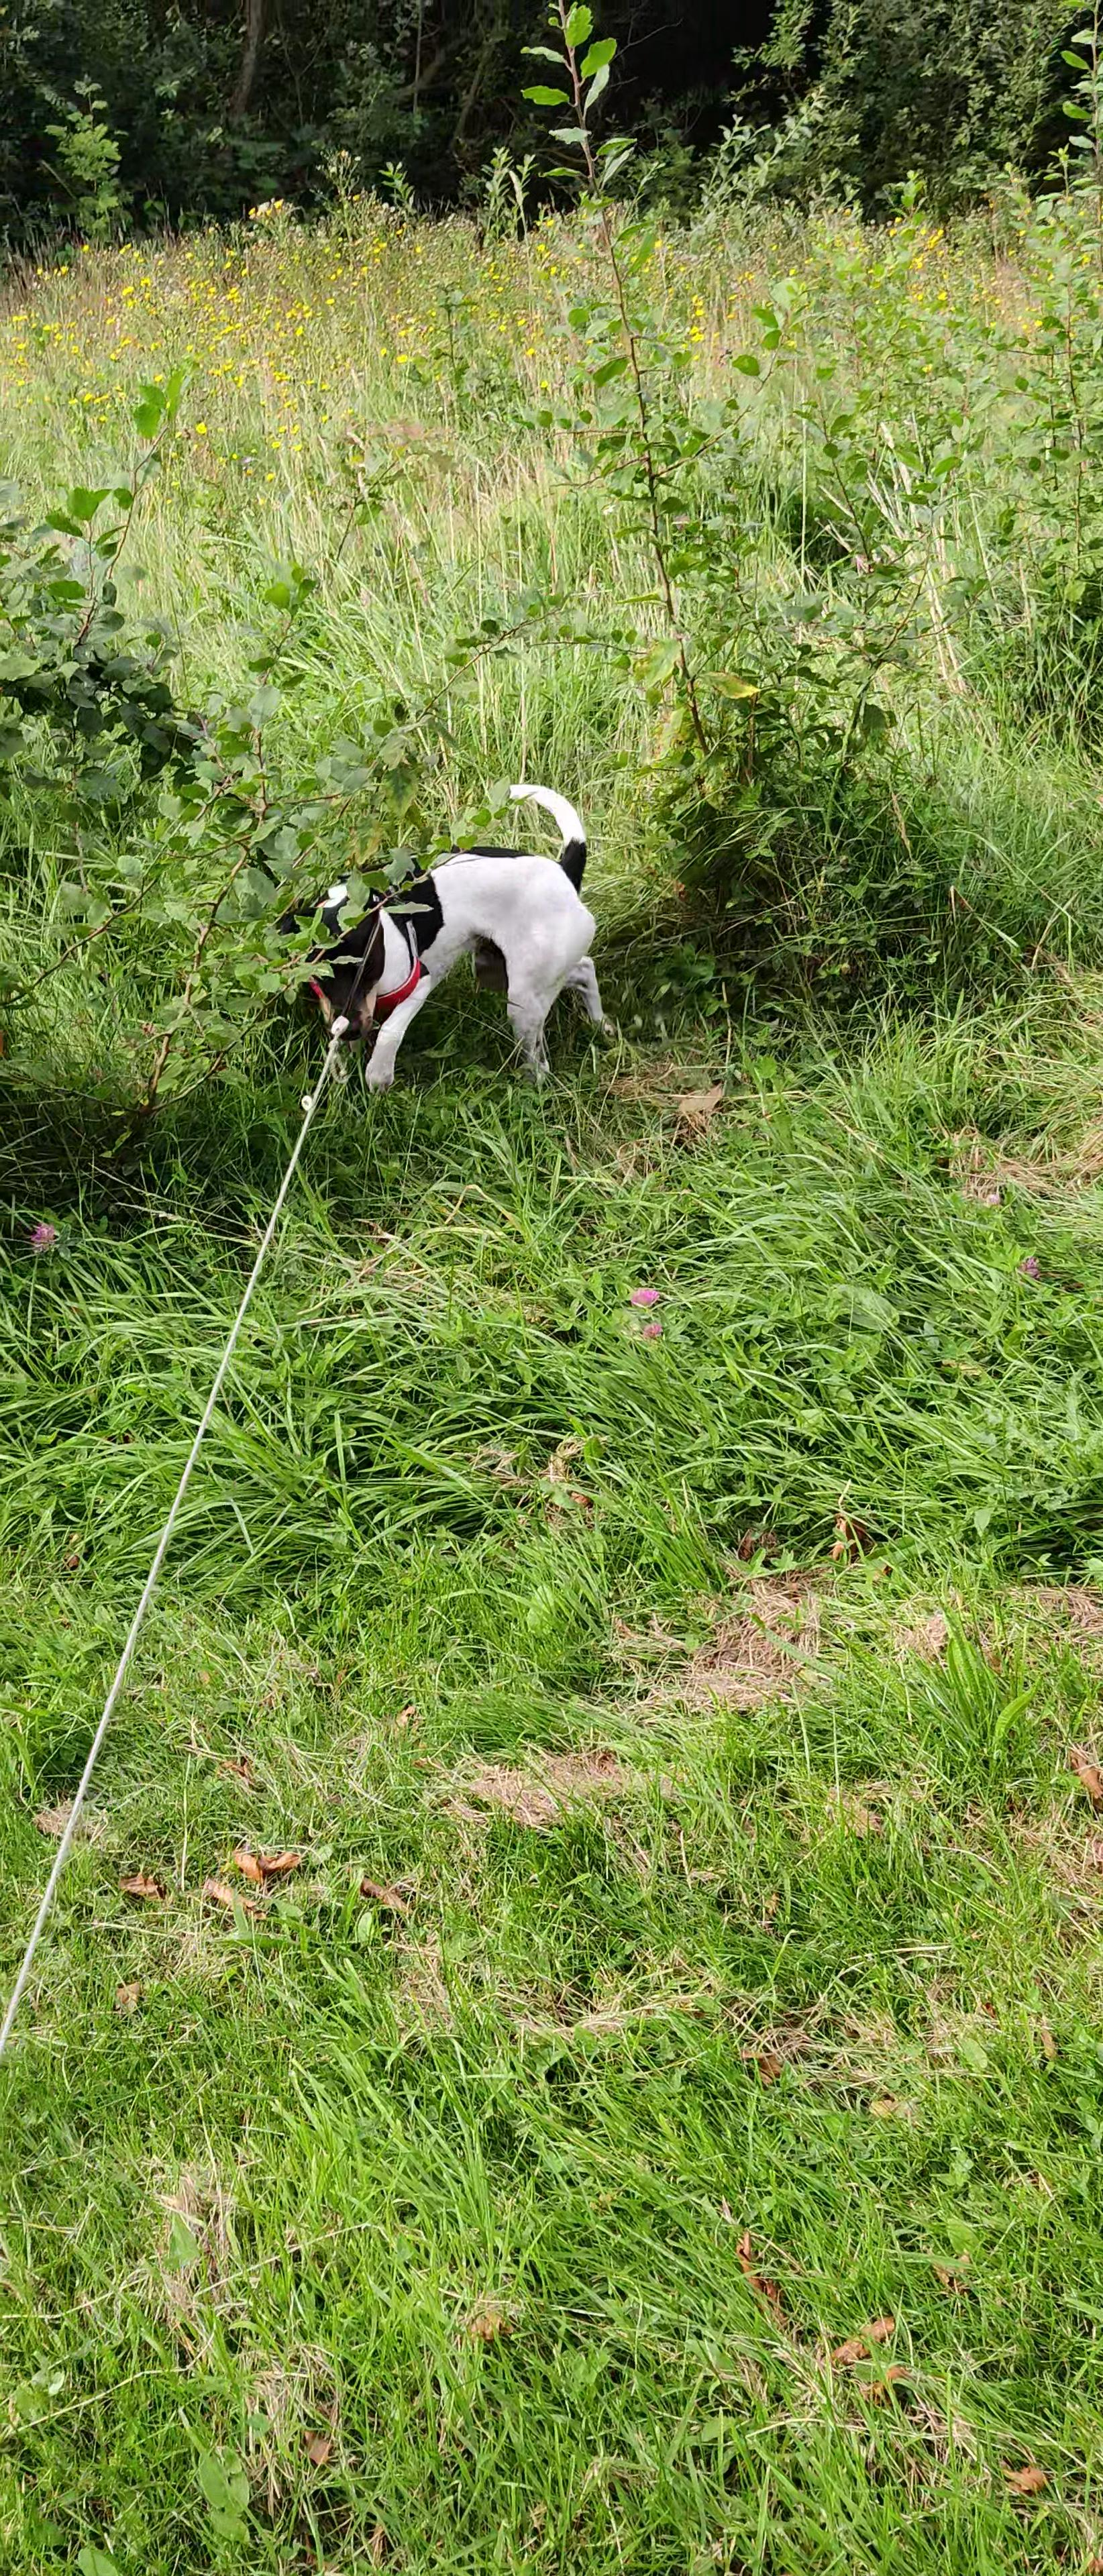Dog: (275, 775, 613, 1099)
